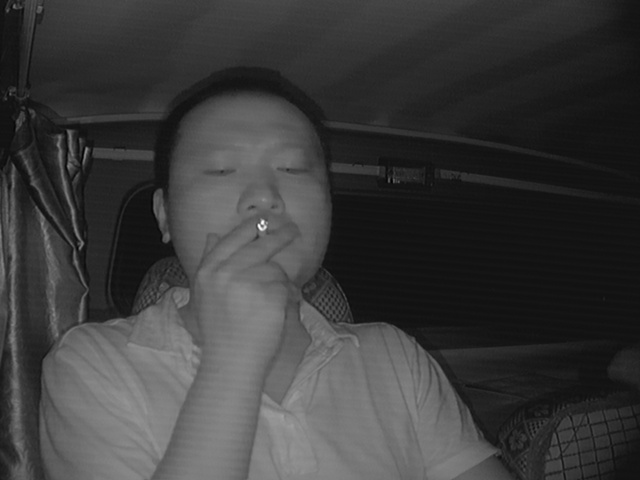hand: (206, 215, 305, 316)
